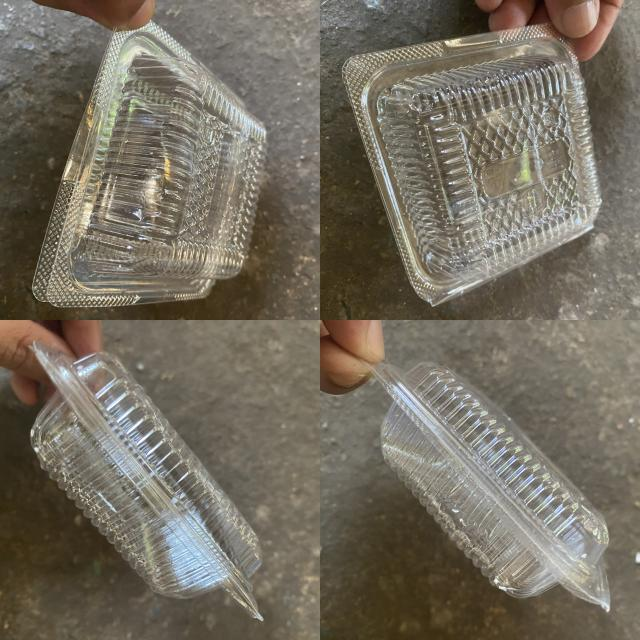Single-Use-Plastic: (342, 26, 601, 305), (32, 22, 266, 308), (31, 342, 261, 618), (374, 362, 609, 610)
